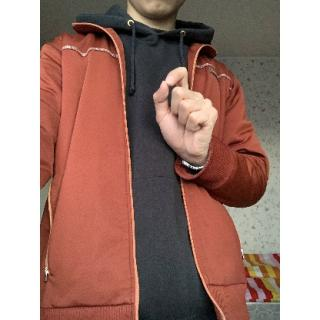FAA: (152, 65, 219, 168)
